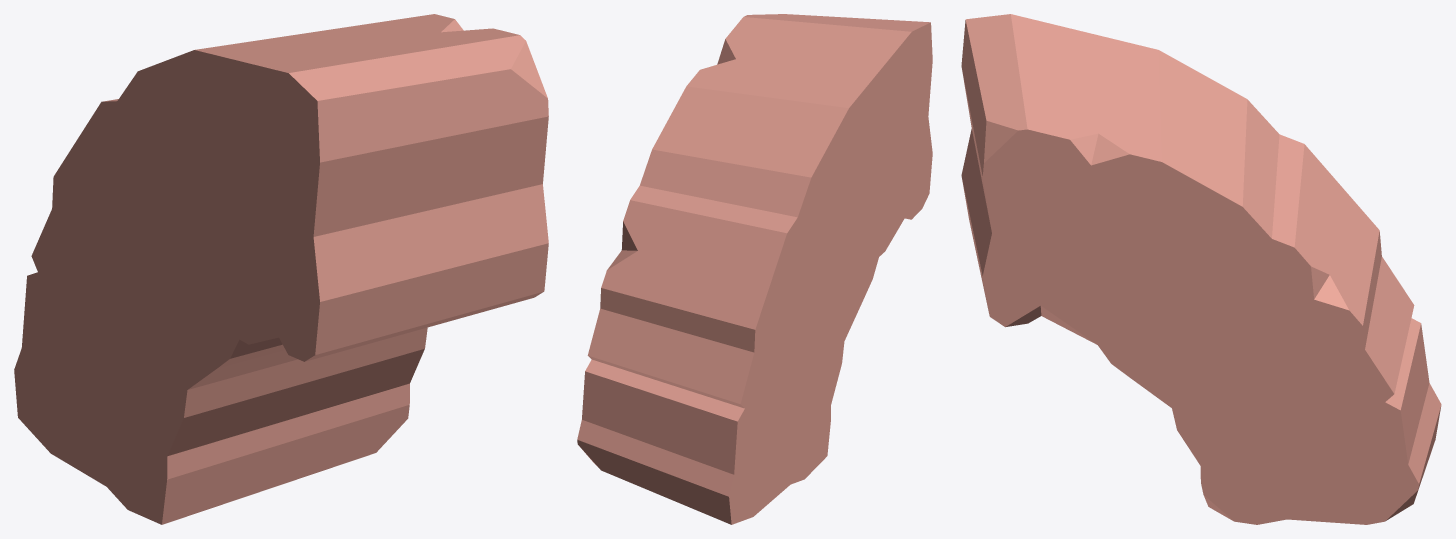
Rendered from SuperGrid_RingQuarter_015_Vlad.fbx.
The picture shows the model from 3 angles, left to right: view 1: azimuth 30°, elevation 25°; view 2: azimuth 150°, elevation 25°; view 3: azimuth 270°, elevation 25°; orthographic projection. The views are drawn at different scales.
Parts seen in each view (by area): view 1: SuperGrid_RingQuarter.015; view 2: SuperGrid_RingQuarter.015; view 3: SuperGrid_RingQuarter.015.
Boxes of the visible parts, <box> form: SuperGrid_RingQuarter.015: <box>14,14,548,524</box>; SuperGrid_RingQuarter.015: <box>577,14,932,524</box>; SuperGrid_RingQuarter.015: <box>961,14,1441,524</box>.
Size of the model in its own units: 10000 by 21869 by 21869.
